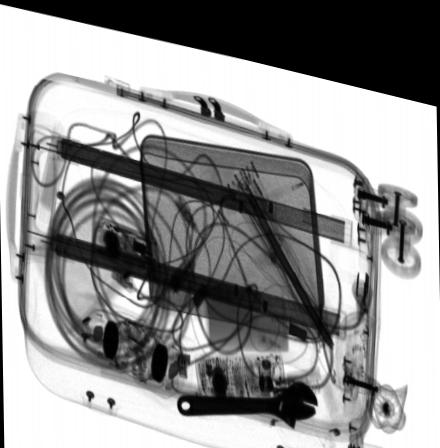Wrench: (177, 365, 318, 416)
